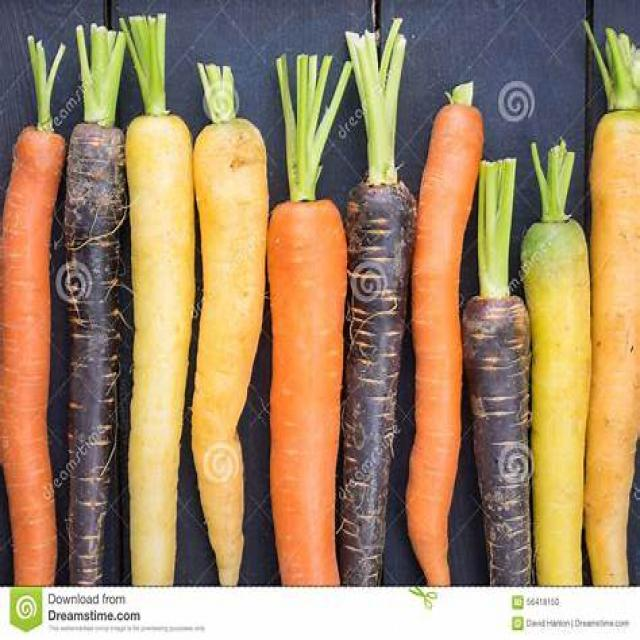Carrot: (195, 119, 268, 586), (123, 111, 193, 584), (265, 198, 348, 582), (342, 178, 418, 594), (412, 98, 472, 590), (68, 122, 132, 582), (4, 126, 62, 588), (526, 222, 595, 592), (593, 106, 640, 604), (463, 295, 537, 592)
